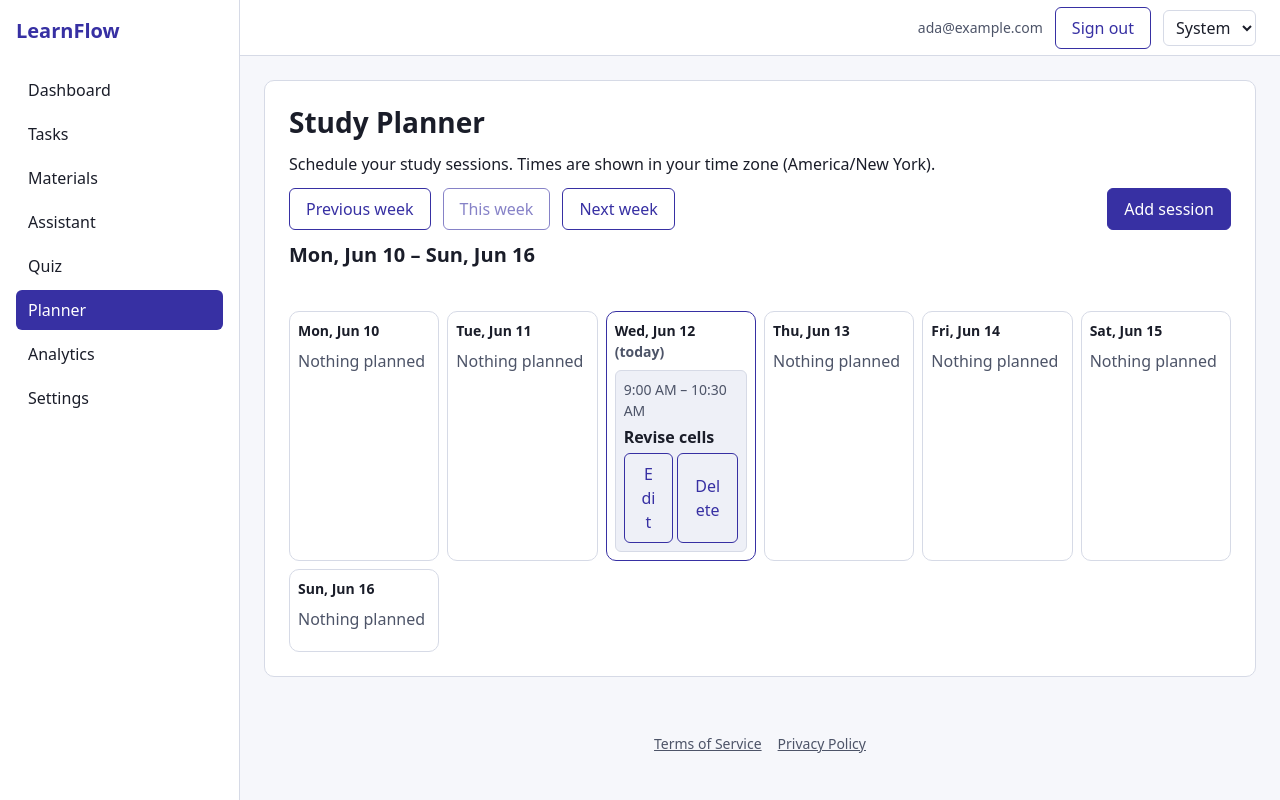
Test: planner: editing and deleting › deletes after confirmation and says so
This screenshot has width=1280, height=800.
Expected: the heading "Study Planner" is shown, [289,103,485,141]
Click the button with aria-label "Delete: Revise cells" at (708, 498), box [677,453,738,543]
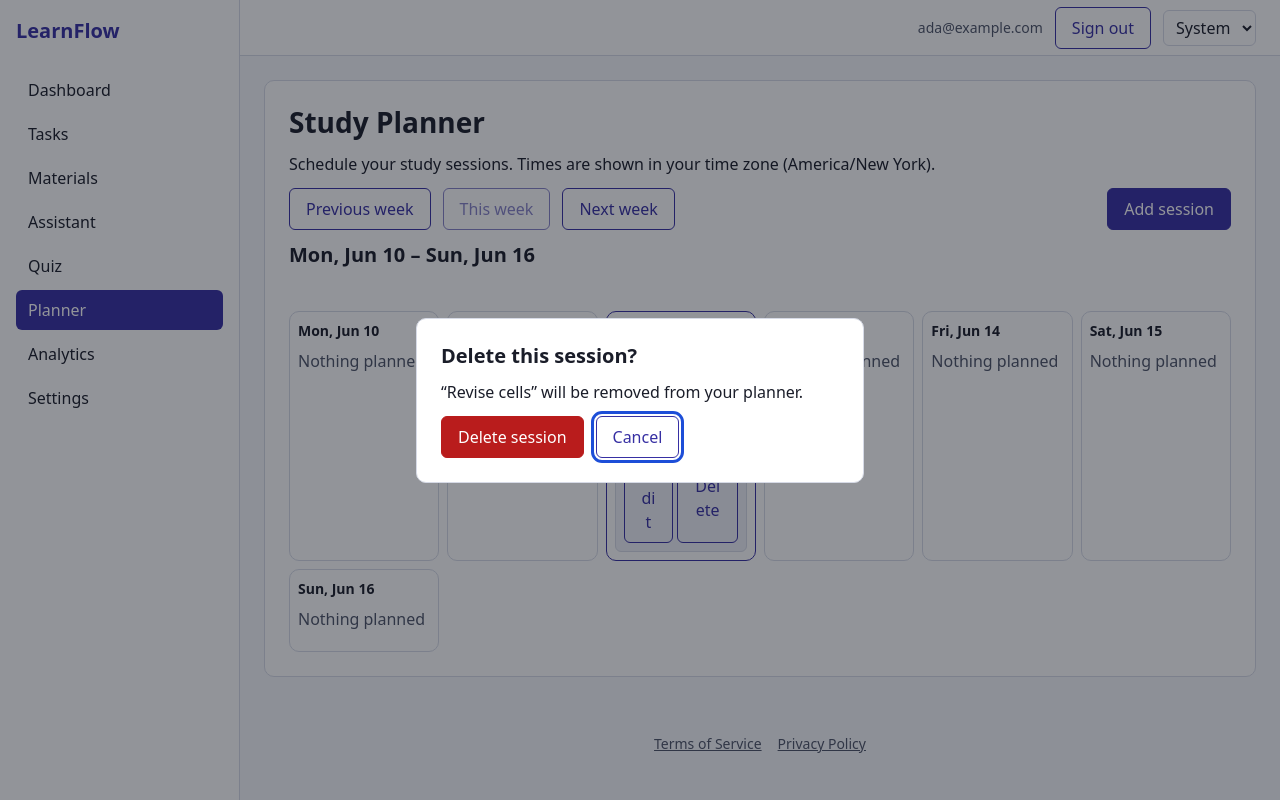
Click the button "Delete session" at (512, 436), box [441,416,584,458]
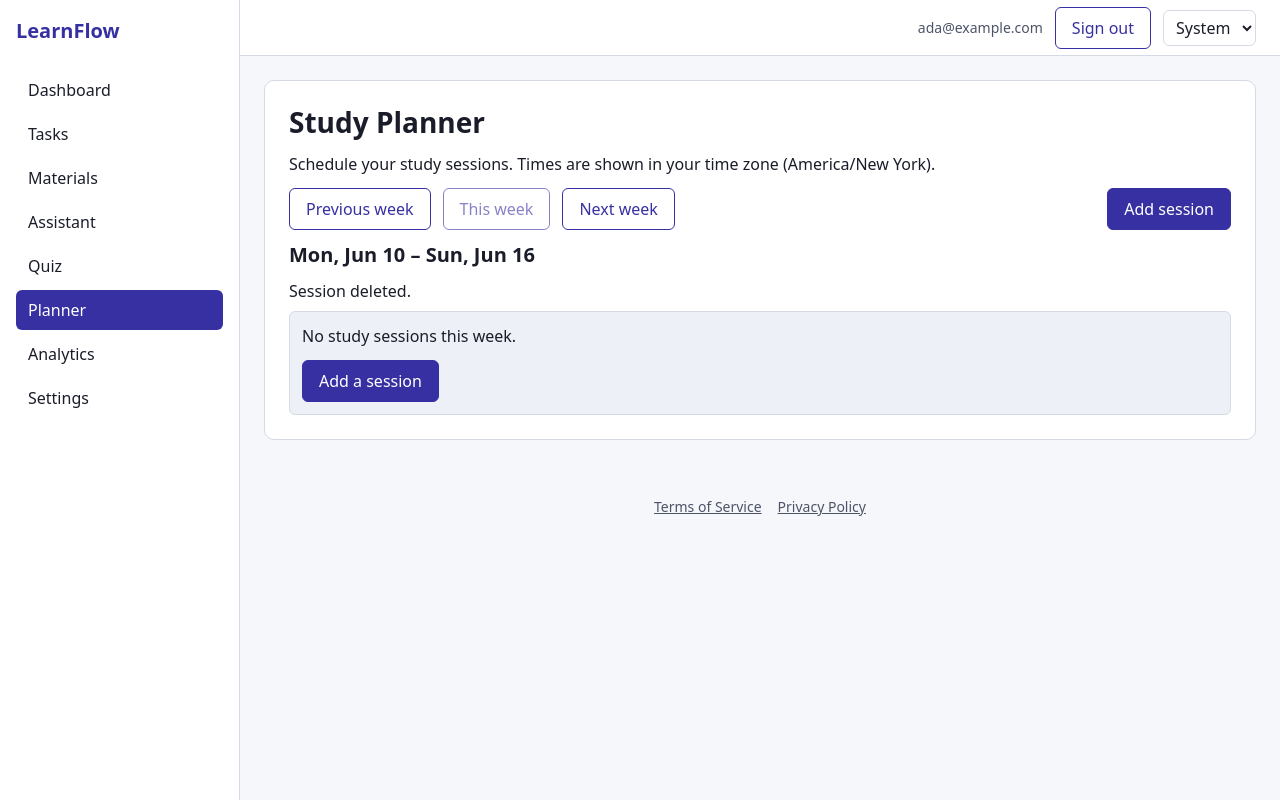
Result: the text "Session deleted." is shown at [289,280,411,302]
Result: the text "No study sessions this week." is shown at [302,325,516,347]
